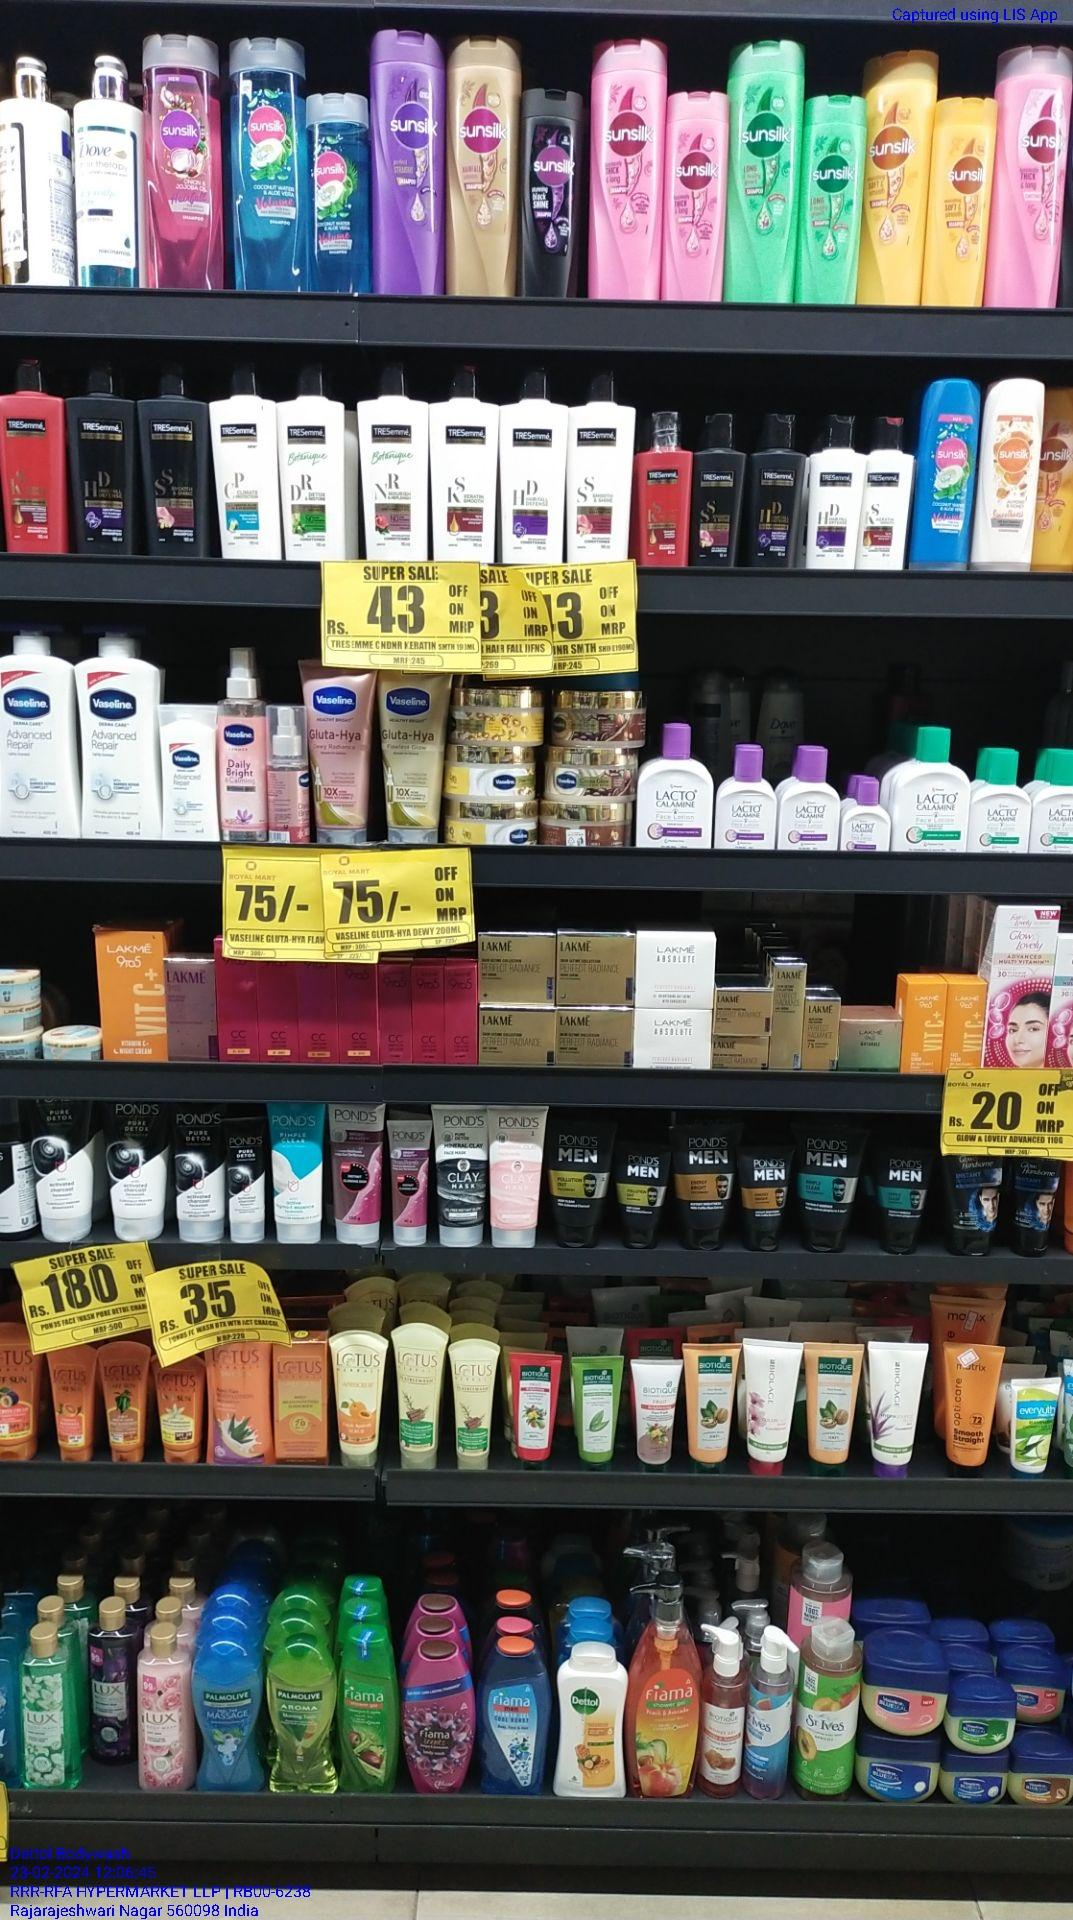Dettol_Nourish_Body_Wash_250ML: (555, 1648, 626, 1799)
Lux_Black_Orchid_Scent_and_Juniper_Oil_Body_Wash_245ML: (84, 1594, 136, 1759)
Lux_Body_Wash_Skin_Detox_Freesia_Scent_and_Alove_Vera_245ML: (24, 1626, 78, 1784)
Palmolive_Aroma_Moments_Feel_The_Massage_Shower_Gel_250ML: (195, 1639, 262, 1793)
Palmolive_Aroma_Morning_Tonic_Shower_Gel_250ML: (266, 1636, 337, 1796)
